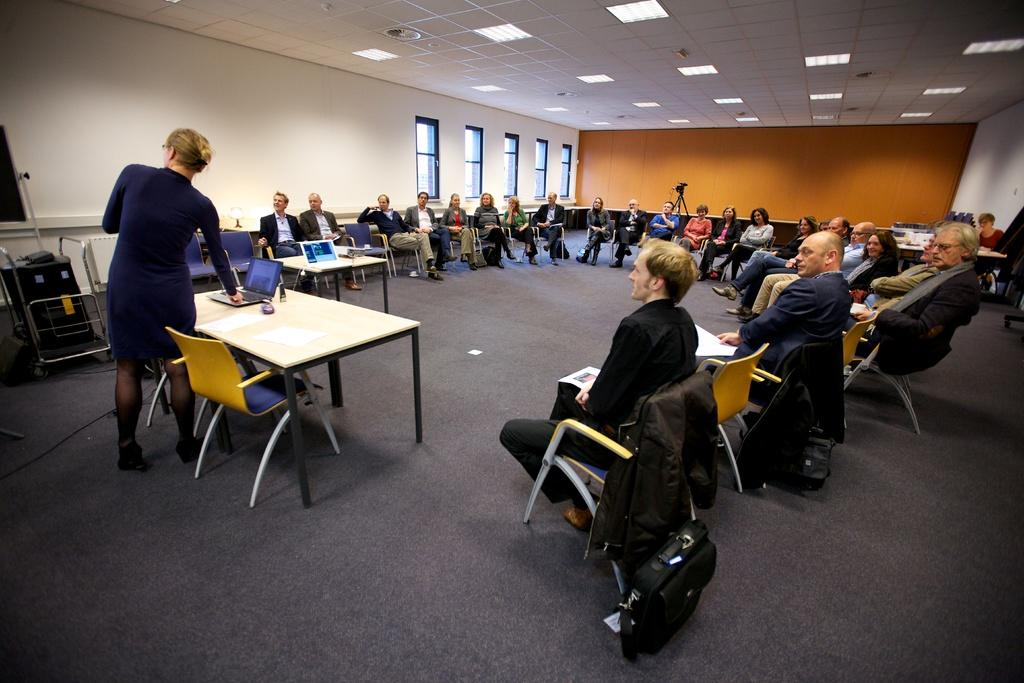Chair: (163, 325, 340, 508)
Laptop: (206, 257, 283, 307), (299, 239, 353, 271)
